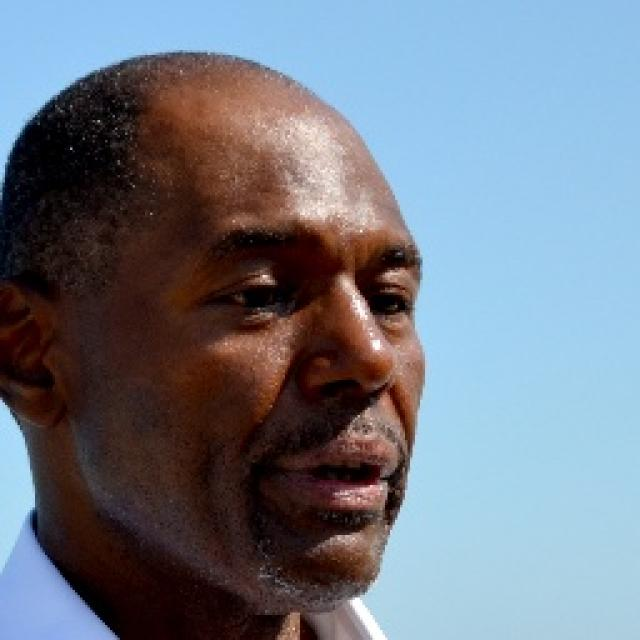earlobe: (23, 382, 66, 430)
eye: (210, 278, 294, 310), (358, 289, 416, 322)
nose: (298, 373, 420, 444)
wholeear: (0, 278, 65, 428)
